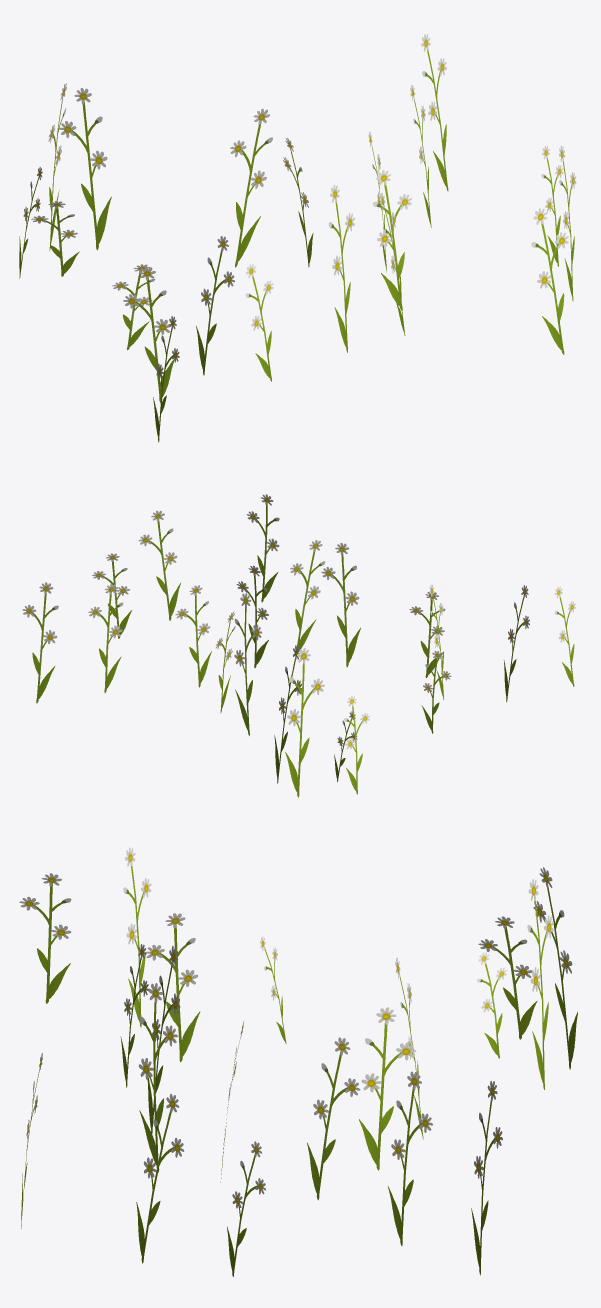
The model's file is AR_Flowers_003.FBX.
3 renders of one model, top to bottom at view 1: azimuth 30°, elevation 25°; view 2: azimuth 150°, elevation 25°; view 3: azimuth 270°, elevation 25°, orthographic. The views are drawn at different scales.
Visible parts, largest first — view 1: AR_flower_003; view 2: AR_flower_003; view 3: AR_flower_003.
Part boxes in pixels (bbox=[...]): AR_flower_003: bbox=[19, 34, 576, 442]; AR_flower_003: bbox=[22, 494, 575, 797]; AR_flower_003: bbox=[19, 847, 577, 1276].
Bounding box in the file's own units: 78.07 × 28.34 × 65.87.
